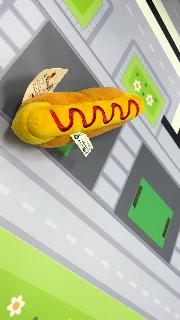hotdog: (11, 86, 145, 150)
